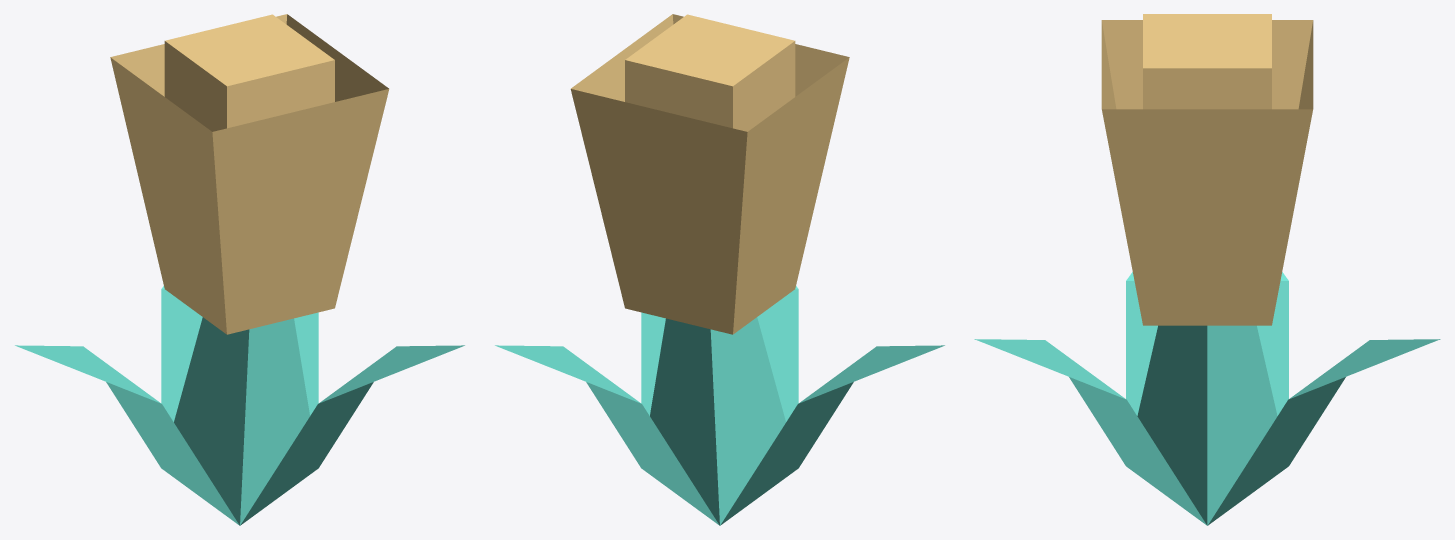
File: flower-c.glb
The picture shows the model from 3 angles, left to right: view 1: azimuth 30°, elevation 25°; view 2: azimuth 150°, elevation 25°; view 3: azimuth 270°, elevation 25°; orthographic projection. The views are drawn at different scales.
Visible parts, largest first — view 1: flower_yellowA; view 2: flower_yellowA; view 3: flower_yellowA.
Boxes of the visible parts, box(x1,y1,x2,y2) form: flower_yellowA: box(15, 14, 464, 525); flower_yellowA: box(495, 14, 944, 525); flower_yellowA: box(974, 14, 1440, 525).
Bounding box in the file's own units: 0.1591 × 0.1925 × 0.1811.
